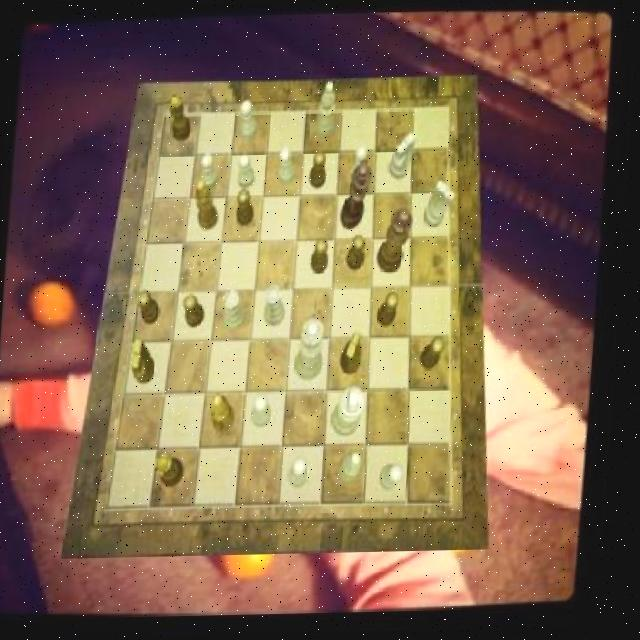bishop: (195, 180, 223, 232), (214, 395, 241, 436)
black-bishop: (342, 161, 374, 232)
black-king: (136, 338, 162, 384), (343, 333, 367, 378)
black-knight: (424, 339, 450, 374), (140, 291, 165, 326), (186, 295, 211, 329), (381, 294, 403, 329), (310, 153, 329, 191), (238, 191, 258, 227), (349, 237, 369, 271), (313, 240, 332, 275)
black-pawn: (380, 211, 416, 276)
black-queen: (166, 95, 195, 143), (160, 455, 191, 489)
black-rook: (316, 84, 338, 140), (343, 452, 368, 486)
white-bishop: (336, 389, 372, 438)
white-king: (425, 184, 457, 231), (390, 136, 417, 182)
white-knight: (241, 101, 261, 142), (201, 155, 221, 193), (351, 147, 370, 186), (279, 148, 298, 186), (294, 459, 316, 490), (239, 154, 258, 189), (257, 396, 277, 429), (386, 465, 411, 491)
white-pawn: (300, 321, 330, 382)
white-queen: (225, 292, 250, 334), (268, 285, 291, 327)
